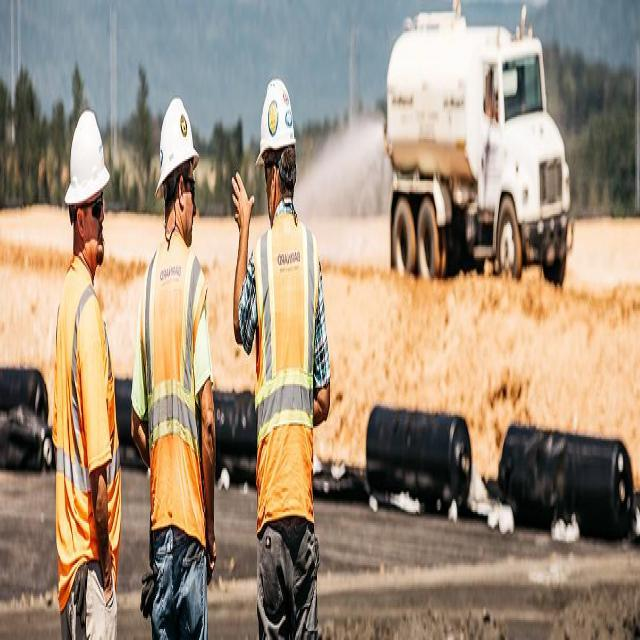reflective_jacket: (52, 254, 121, 618), (139, 232, 213, 555), (251, 206, 322, 541)
safety_helmet: (62, 99, 111, 216), (154, 91, 200, 197), (255, 67, 297, 168)
